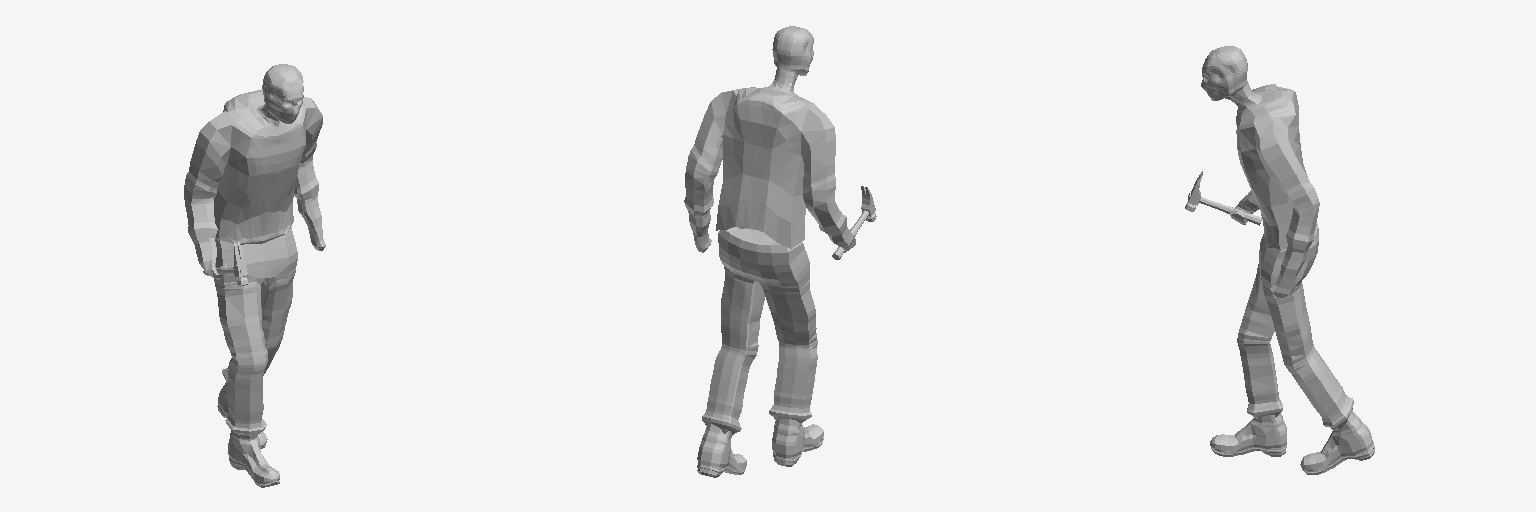
Rendered from Murderer_Idle149.obj.
3 views of the same model, side by side, from view 1: azimuth 30°, elevation 25°; view 2: azimuth 150°, elevation 25°; view 3: azimuth 270°, elevation 25° (orthographic).
Visible parts, largest first — view 1: Körper, Beine, Stiefel, Hammer; view 2: Körper, Beine, Stiefel, Hammer; view 3: Körper, Beine, Stiefel, Hammer.
Part boxes in pixels (bbox=[...]): Körper: bbox=[184, 64, 325, 279]; Beine: bbox=[214, 227, 297, 435]; Stiefel: bbox=[217, 382, 279, 487]; Hammer: bbox=[203, 242, 248, 285]; Körper: bbox=[684, 26, 855, 252]; Beine: bbox=[702, 227, 817, 437]; Stiefel: bbox=[697, 419, 823, 477]; Hammer: bbox=[832, 186, 876, 259]; Körper: bbox=[1201, 46, 1319, 297]; Beine: bbox=[1237, 224, 1353, 428]; Stiefel: bbox=[1210, 410, 1374, 474]; Hammer: bbox=[1185, 171, 1261, 225].
Size of the model in its own units: 0.3398 by 0.9615 by 0.3995.